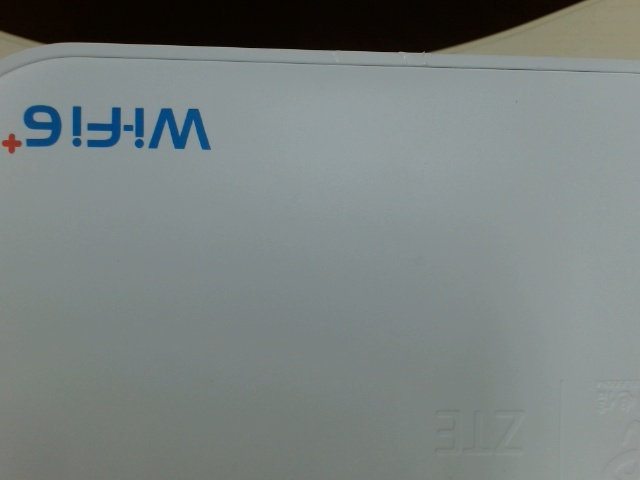AJ_ZTEWIFI6Plus: (1, 96, 223, 166)
